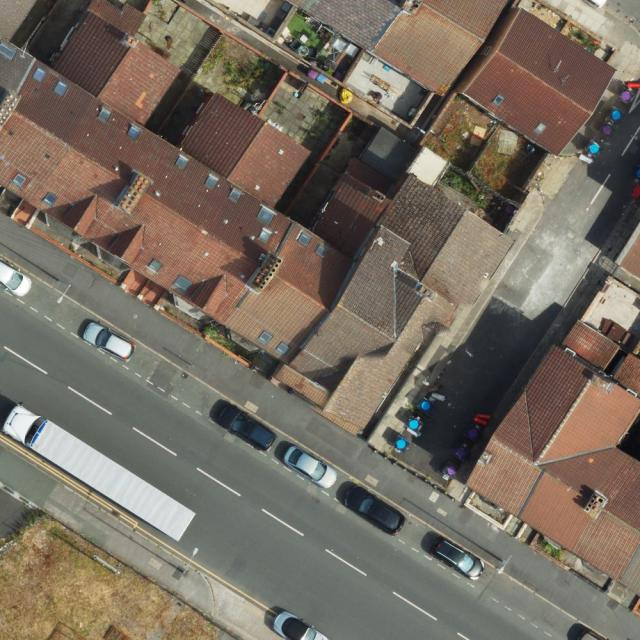roof: (0, 0, 517, 439), (464, 321, 640, 597), (462, 6, 617, 157), (282, 0, 508, 97)
skylight: (254, 204, 277, 227), (173, 275, 194, 294), (294, 230, 315, 248), (256, 225, 274, 244), (125, 124, 144, 142), (313, 242, 331, 260), (52, 80, 70, 98), (256, 329, 275, 346), (1, 43, 18, 62), (146, 256, 164, 273), (203, 173, 220, 191), (97, 106, 113, 125), (41, 191, 60, 207), (173, 154, 190, 171), (274, 341, 292, 357), (227, 186, 243, 204), (31, 66, 47, 83), (12, 172, 28, 188), (533, 121, 549, 136), (492, 93, 506, 108)
